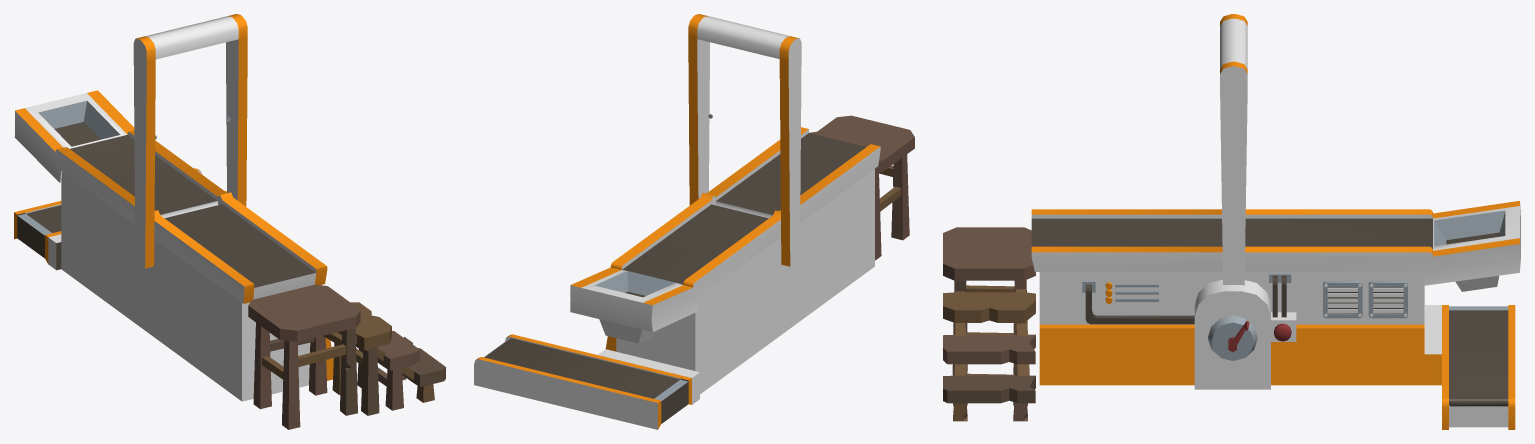
File: 3D_workstation_slicer.fbx
The picture shows the model from 3 angles, left to right: view 1: azimuth 30°, elevation 25°; view 2: azimuth 150°, elevation 25°; view 3: azimuth 270°, elevation 25°; orthographic projection. The views are drawn at different scales.
Parts seen in each view (by area): view 1: 3D_workstation_slicer_table, 3D_workstation_slicer_stair; view 2: 3D_workstation_slicer_table, 3D_workstation_slicer_stair; view 3: 3D_workstation_slicer_table, 3D_workstation_slicer_stair.
Boxes of the visible parts, x1,y1,x2,y2 form: 3D_workstation_slicer_table: [14, 14, 333, 401]; 3D_workstation_slicer_stair: [248, 284, 445, 429]; 3D_workstation_slicer_table: [474, 14, 880, 429]; 3D_workstation_slicer_stair: [809, 115, 914, 260]; 3D_workstation_slicer_table: [1031, 14, 1520, 429]; 3D_workstation_slicer_stair: [943, 227, 1035, 421].
Size of the model in its own units: 2.36 by 3.59 by 5.82.
